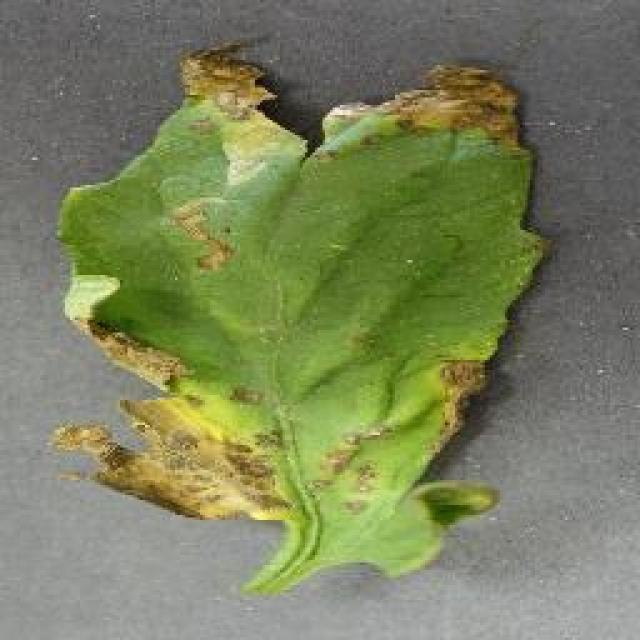Tomato bacterial spot leaf: (52, 49, 540, 584)
